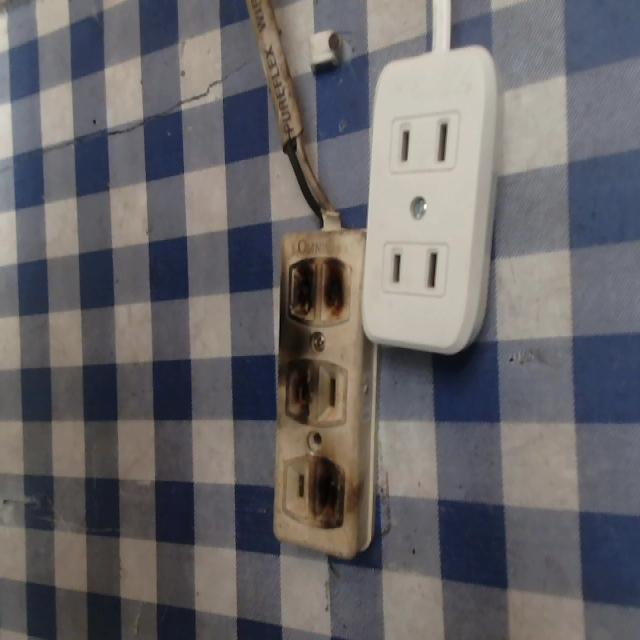-: (271, 247, 356, 328), (311, 454, 356, 522), (276, 358, 325, 418)
